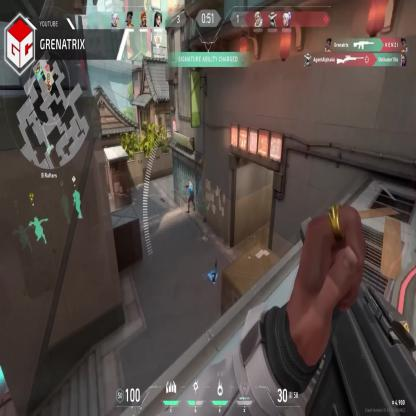enemy: (187, 180, 195, 215)
enemy_head: (189, 181, 191, 186)
